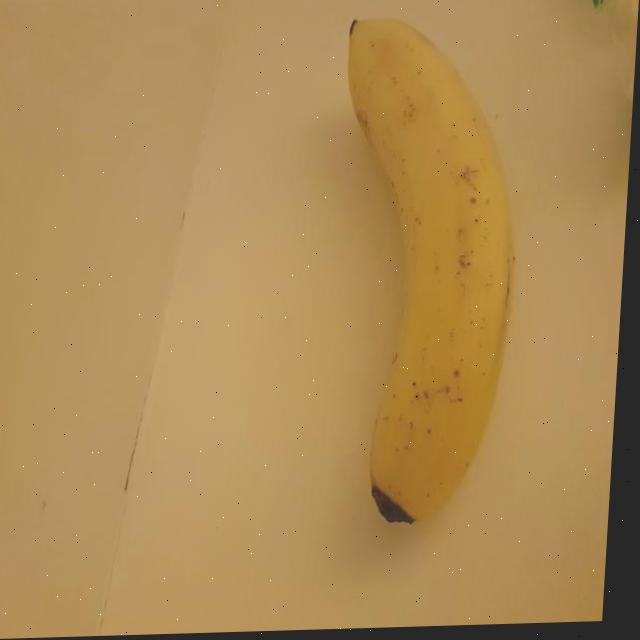banana: (315, 4, 533, 535)
